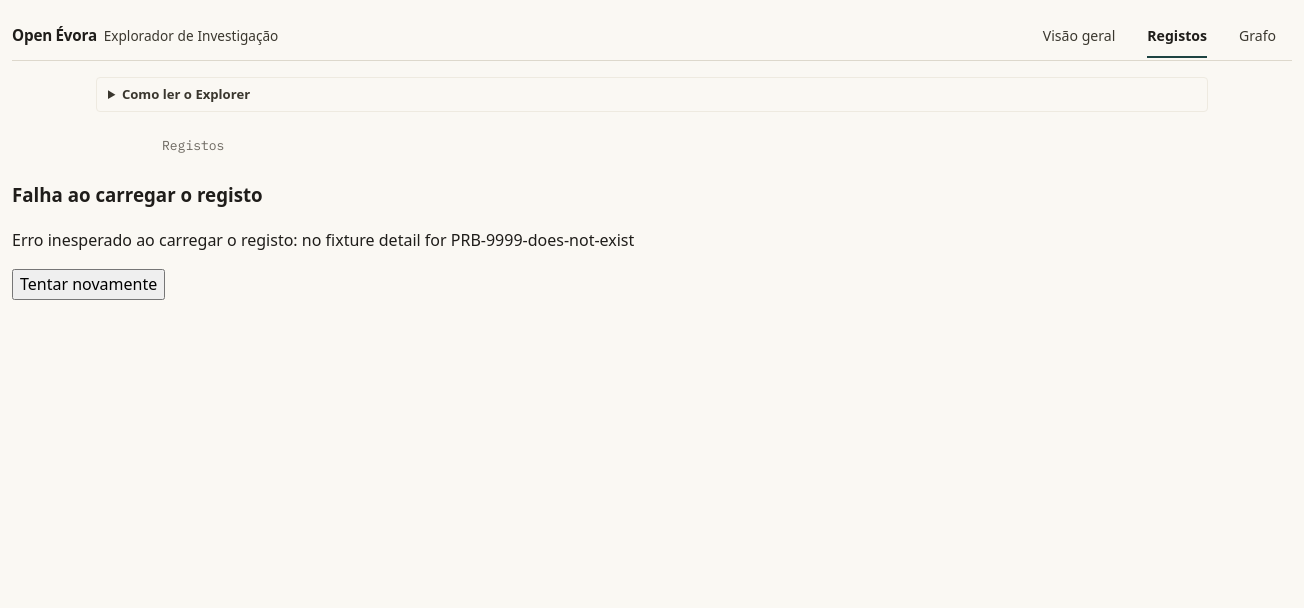
Test: Explorer — URL-addressable state › an invalid/unknown record ID in the URL degrades to a safe, actionable error — not a bypassed fetch
Expected: the heading "Falha ao carregar o registo" is shown, [12, 182, 263, 207]
# V2: Records is reachable again via the breadcrumb, not a persistent table.
Click the 2nd button "Registos" at coordinates (193, 146), box [162, 136, 224, 156]
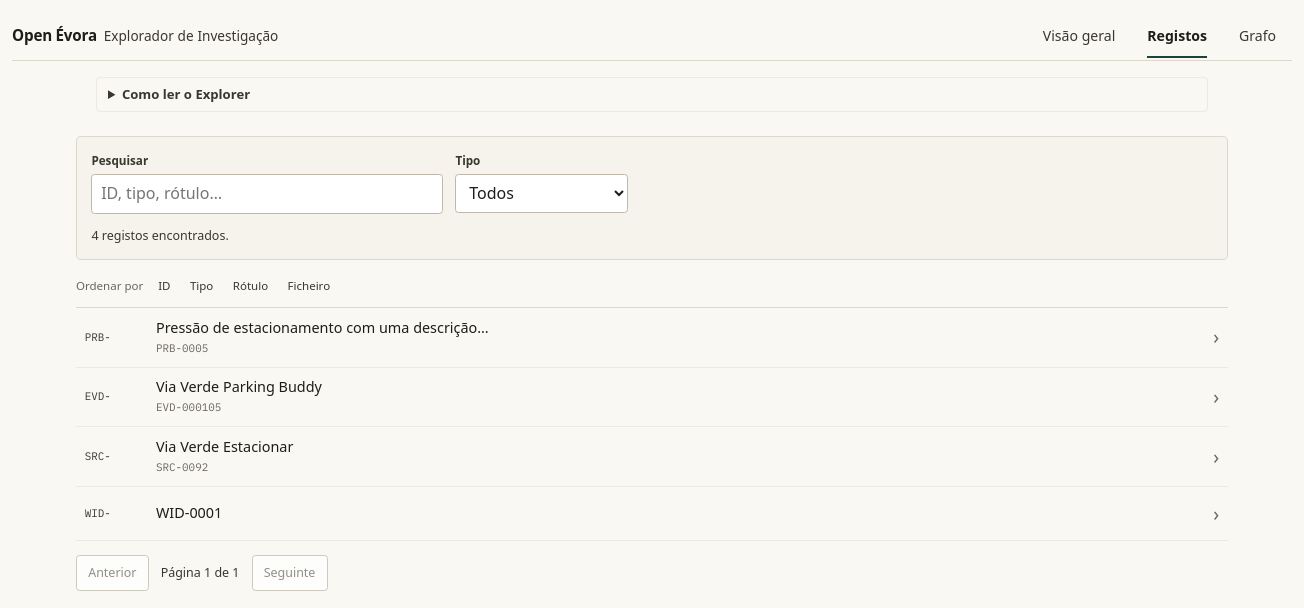
Expected: the button "EVD- Via Verde Parking Buddy EVD-000105 ›" is shown, [76, 368, 1228, 427]
